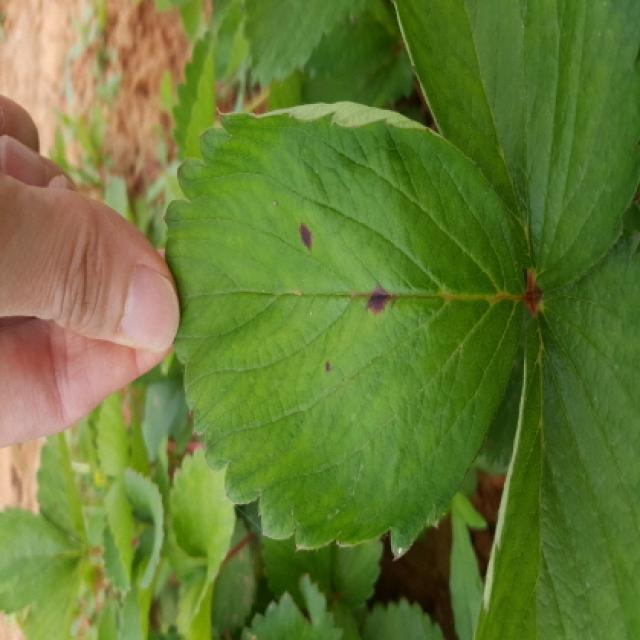Leaf Spot: (161, 101, 527, 563)
